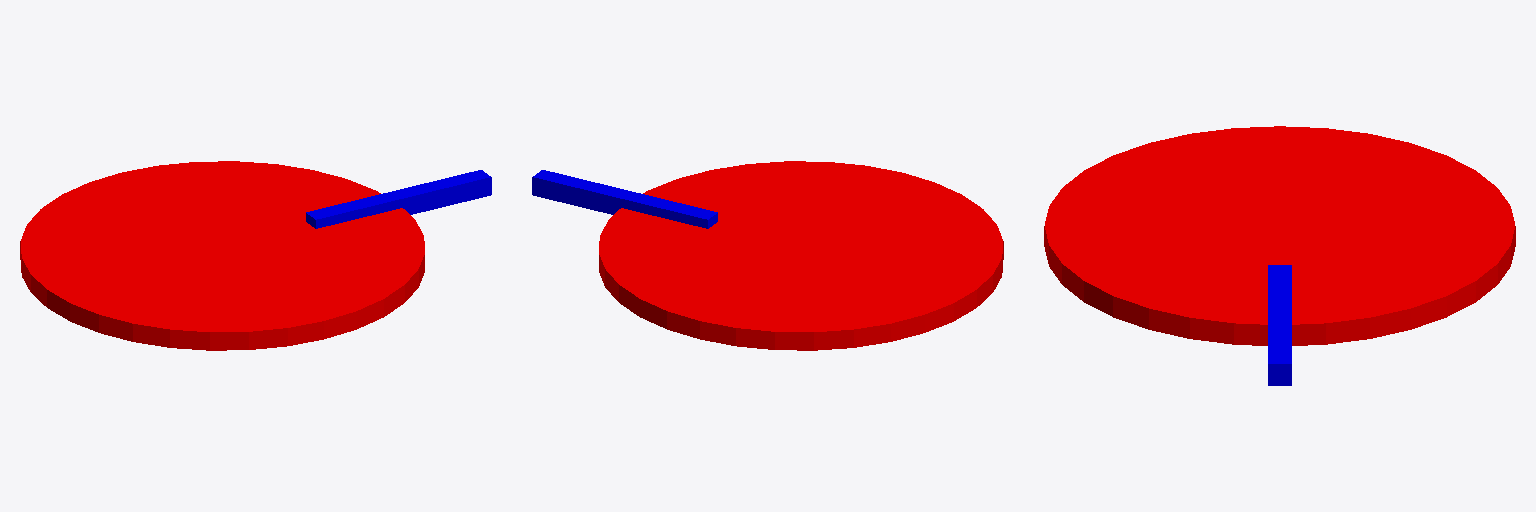
robot.urdf — disk:
<?xml version="1.0"?>
    <robot name="disk">
        <link name="world">
            <inertial>
                <mass value="0"/>
                <origin rpy="0 0 0" xyz="0 0 0"/>
                <inertia ixx="0" ixy="0" ixz="0" iyy="0" iyz="0" izz="0"/>
            </inertial>
        </link>

        <joint name="y_to_world" type="prismatic">
            <parent link="world"/>
            <child link="y_prismatic"/>
            <axis xyz="0 1 0"/>
            <limit effort="0.0" lower="1" upper="-1" velocity="1000.0"/>
            <origin rpy="0 0 0" xyz="0 0 0"/>
        </joint>

        <link name="y_prismatic">
            <inertial>
                <mass value="0.01"/>
                <inertia ixx="0.2125" ixy="-0.005" ixz="0.0225" iyy="0.205" iyz="0.045" izz="0.0125"/>
                <origin rpy="0 0 0" xyz="0 0 0"/>
            </inertial>
        </link>

        <joint name="x_to_y" type="prismatic">
            <parent link="y_prismatic"/>
            <child link="x_prismatic"/>
            <axis xyz="1 0 0"/>
            <limit effort="0.0" lower="1" upper="-1" velocity="1000.0"/>
            <origin rpy="0 0 0" xyz="0 0 0"/>
        </joint>

        <link name="x_prismatic">
            <inertial>
                <mass value="0.01"/>
                <inertia ixx="0.2125" ixy="-0.005" ixz="0.0225" iyy="0.205" iyz="0.045" izz="0.0125"/>
                <origin rpy="0 0 0" xyz="0 0 0"/>
            </inertial>
        </link>

        <joint name="base_to_x" type="continuous">
            <parent link="x_prismatic"/>
            <child link="base_link"/>
            <axis xyz="0 0 1"/>
            <origin rpy="0 0 0" xyz="0 0 0"/>
        </joint>

        <link name="base_link">
            <visual>
                <origin xyz="0 0 0.005" rpy="0 0 0"/>
                <geometry>
                    <cylinder length="0.01" radius="0.1"/>
                </geometry>
                <material name="agent_color">
                    <color rgba="1 0 0 1"/>
                </material>
            </visual>

            <collision>
                <origin xyz="0 0 0.005" rpy="0 0 0"/>
                <geometry>
                    <cylinder length="0.01" radius="0.1"/>
                </geometry>
            </collision>

            <inertial>
                <origin xyz="0 0 0" rpy="0 0 0"/>
                <mass value="1.0"/>
                <inertia ixx="0.002508" ixy="0" ixz="0" iyy="0.002508" iyz="0" izz="0.005000"/>
            </inertial>
        </link>

        <joint name= "block_to_base" type="fixed">
            <parent link="base_link"/>
            <child link="heading_block"/>
            <origin xyz="0.05 0 0.005" rpy="0 0 0"/>
        </joint>

        <link name="heading_block">
            <visual>
                <origin xyz="0.05 0 0.005" rpy="0 0 0"/>
                <geometry>
                    <box size="0.1 0.01 0.01"/>
                </geometry>
                <material name="block_color"><color rgba="0 0 1 1"/></material>
            </visual>
        </link>
    </robot>
    

--- What the picture shows (computed from the rendered views, not written in the file) ---
The picture shows the robot from 3 angles, left to right: view 1: azimuth 30°, elevation 25°; view 2: azimuth 150°, elevation 25°; view 3: azimuth 270°, elevation 25°; orthographic projection.
Robot: disk — 5 links, 4 joints (1 continuous, 2 prismatic, 1 fixed); root link world; default pose: all joints at 0.
Visible links, largest first — view 1: base_link, heading_block; view 2: base_link, heading_block; view 3: base_link, heading_block.
Boxes of the visible links, <box> form: base_link: <box>20,161,424,350</box>; heading_block: <box>306,170,491,228</box>; base_link: <box>599,161,1003,350</box>; heading_block: <box>532,170,717,228</box>; base_link: <box>1044,126,1515,345</box>; heading_block: <box>1268,265,1291,385</box>.
Bounding box of the posed robot: 0.25 × 0.2 × 0.015 m (x, y, z).
Geometry: primitives only (box / cylinder / sphere), no mesh files.